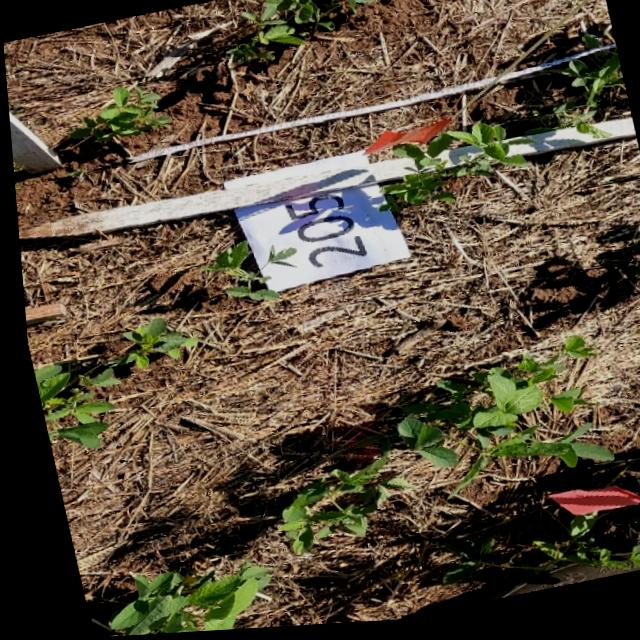soy_plant: (390, 343, 604, 499), (28, 318, 191, 447), (271, 455, 400, 555), (376, 127, 521, 213), (99, 566, 258, 637), (524, 480, 640, 576), (225, 0, 380, 65), (553, 55, 623, 135), (67, 87, 165, 143), (201, 243, 273, 303), (430, 539, 481, 587), (264, 251, 289, 267), (580, 40, 599, 54)
